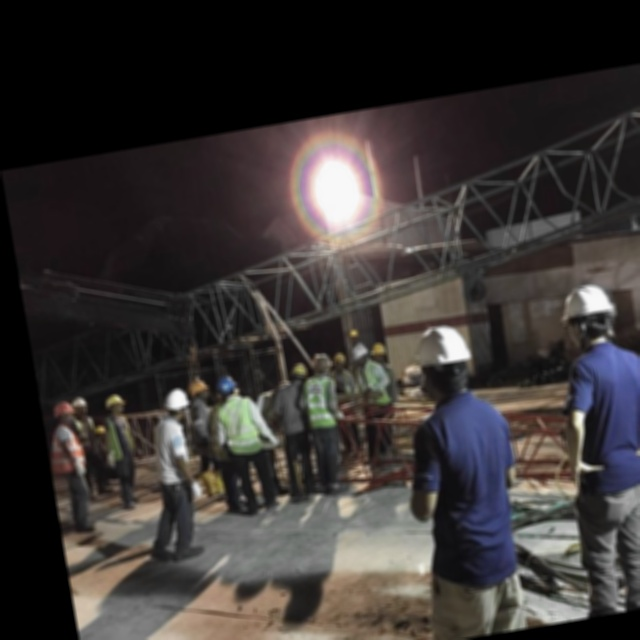Con_Casco: (407, 322, 476, 400), (559, 281, 616, 348)
Con_Chaleco: (215, 395, 262, 456), (304, 375, 339, 427)
Sin_Chaleco: (407, 397, 529, 574), (559, 347, 640, 488)
